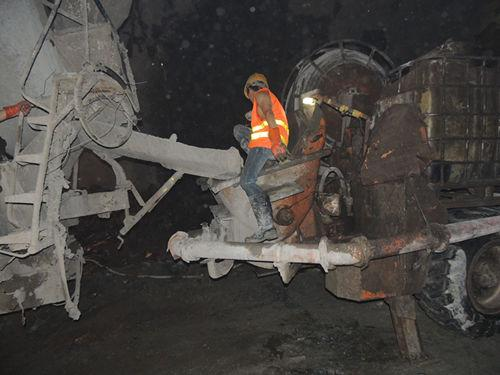boots: (245, 191, 279, 243)
gloves: (267, 125, 287, 162)
hard-hat: (244, 72, 269, 98)
person: (240, 71, 290, 243)
vest: (246, 87, 290, 153)
